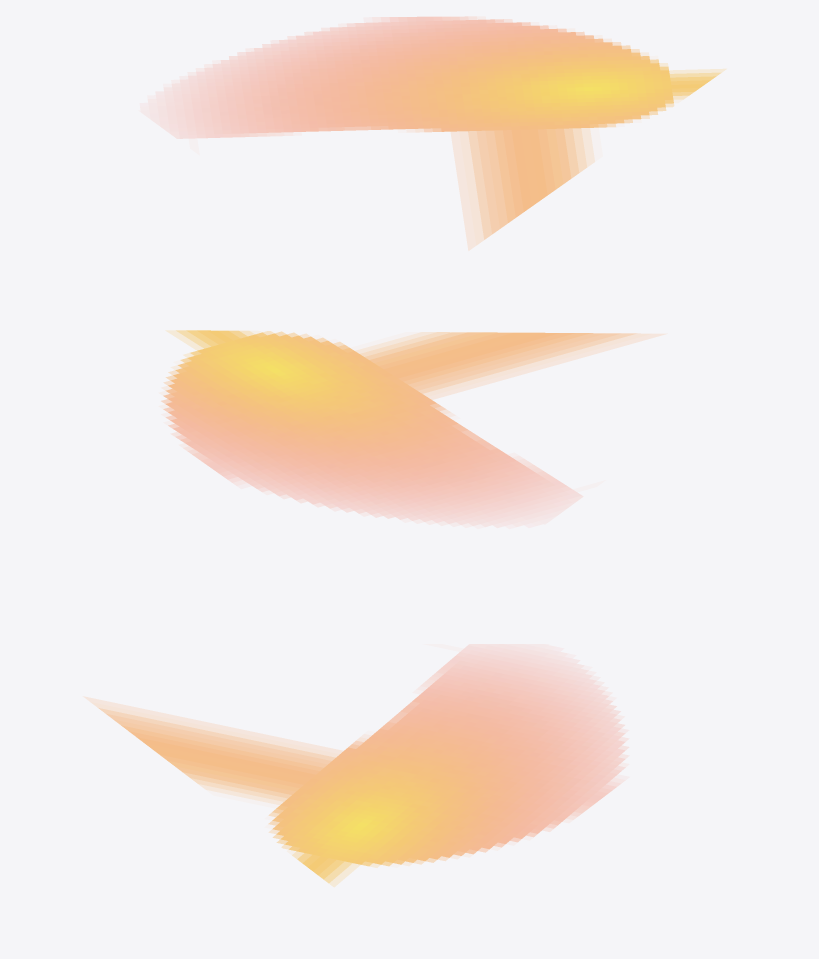
Rendered from sparkparticle.glb.
The picture shows the model from 3 angles, top to bottom: view 1: azimuth 30°, elevation 25°; view 2: azimuth 150°, elevation 25°; view 3: azimuth 270°, elevation 25°; orthographic projection. The views are drawn at different scales.
Visible parts, largest first — view 1: Plane; view 2: Plane; view 3: Plane.
Part boxes in pixels (left/top/right/bottom): Plane: left=183, top=17, right=725, bottom=249; Plane: left=161, top=330, right=663, bottom=518; Plane: left=85, top=652, right=624, bottom=886.
Size of the model in its own units: 1.8 by 0 by 2.
1 material, 1 textured.
